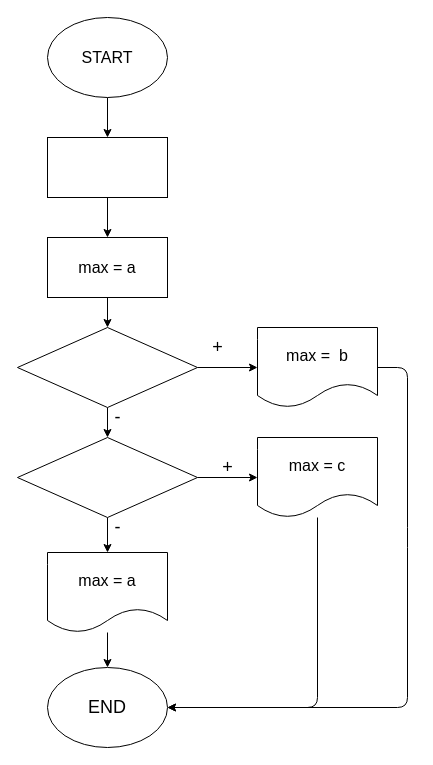
This 433x765 diagram has some shape labels left out. The shapes that lost their labels are listed below. From the top down, each one's box as (x1, y1, x2, y2) in pixels, then its label:
(46, 136, 168, 198): int a=44 int b=5 int c = 78
(16, 326, 198, 408): b > max
(16, 436, 198, 518): c > max
